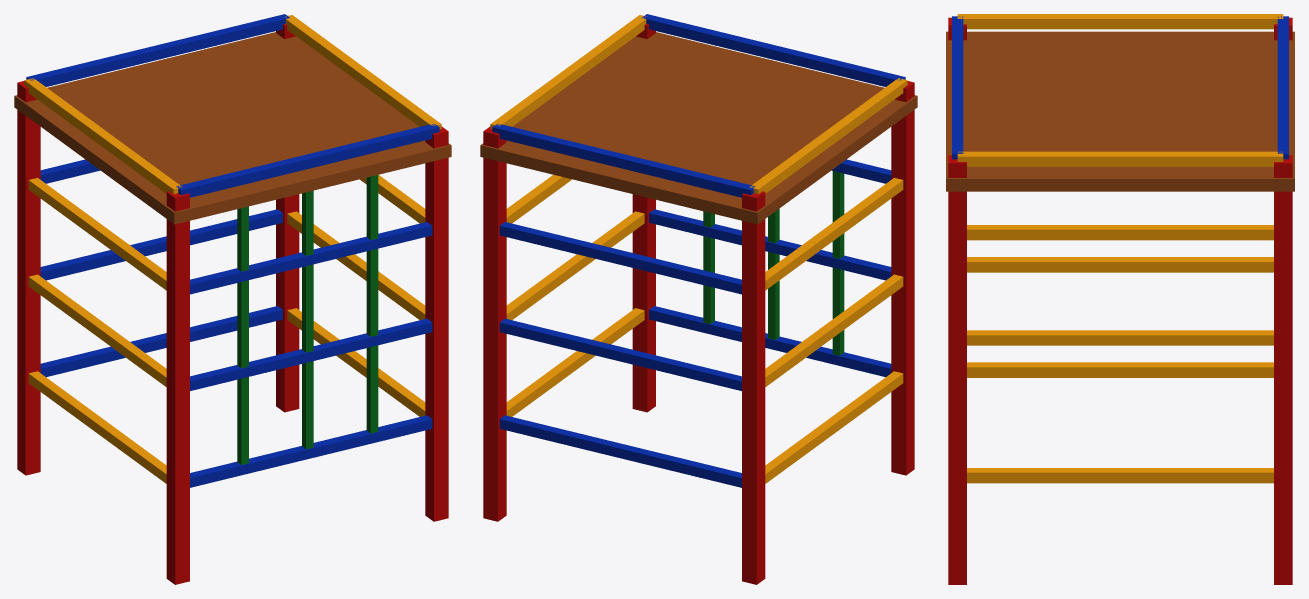
Rendered from climbing_frame.obj.
3 views of the same model, side by side, from view 1: azimuth 30°, elevation 25°; view 2: azimuth 150°, elevation 25°; view 3: azimuth 270°, elevation 25° (orthographic). The views are drawn at different scales.
Visible parts, largest first — view 1: climbing_frame; view 2: climbing_frame; view 3: climbing_frame.
Part boxes in pixels (x1=…): climbing_frame: x1=14, y1=14, x2=451, y2=584; climbing_frame: x1=480, y1=14, x2=917, y2=584; climbing_frame: x1=946, y1=14, x2=1294, y2=584.
Bounding box in the file's own units: 1.5 × 2.03 × 1.5.
